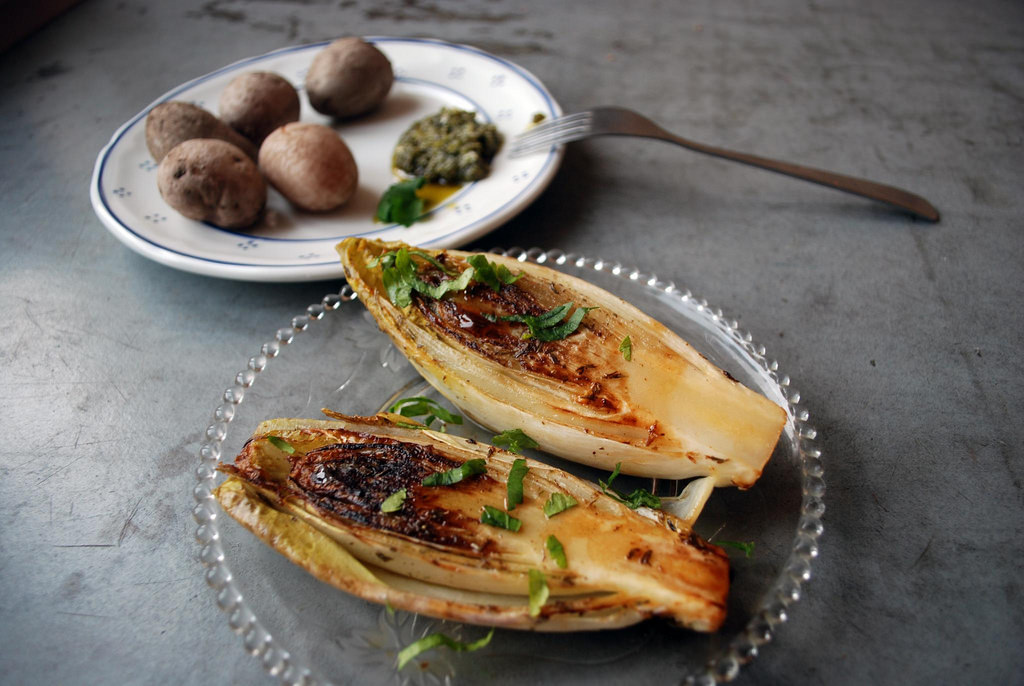boiled potatoes: (137, 36, 397, 222), (147, 143, 271, 228), (259, 124, 364, 213), (310, 40, 402, 126), (138, 93, 231, 173), (215, 69, 309, 140)
